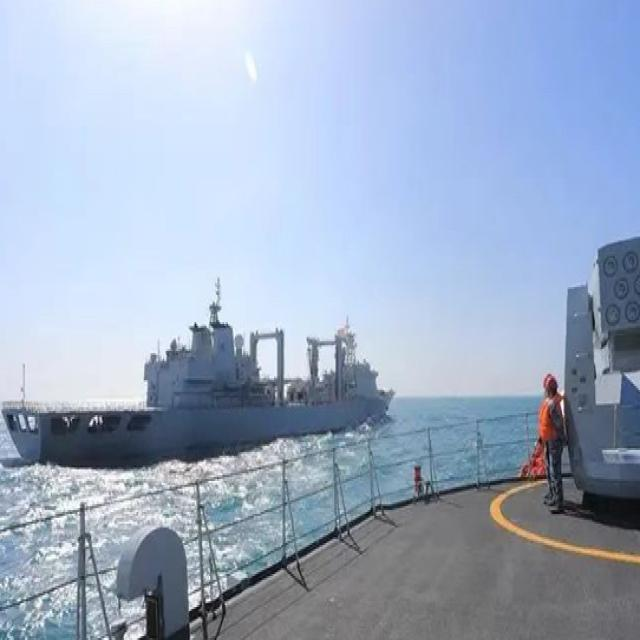navalvessels: (0, 256, 398, 473)
